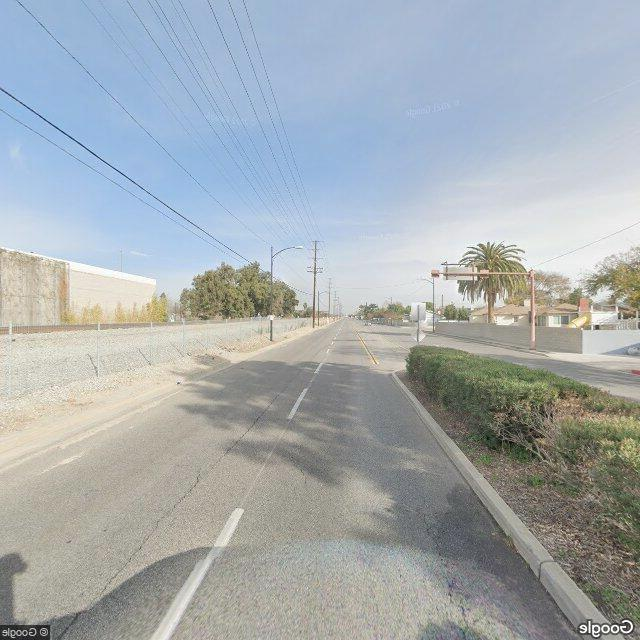pothole: (64, 382, 285, 637), (419, 489, 471, 634)
